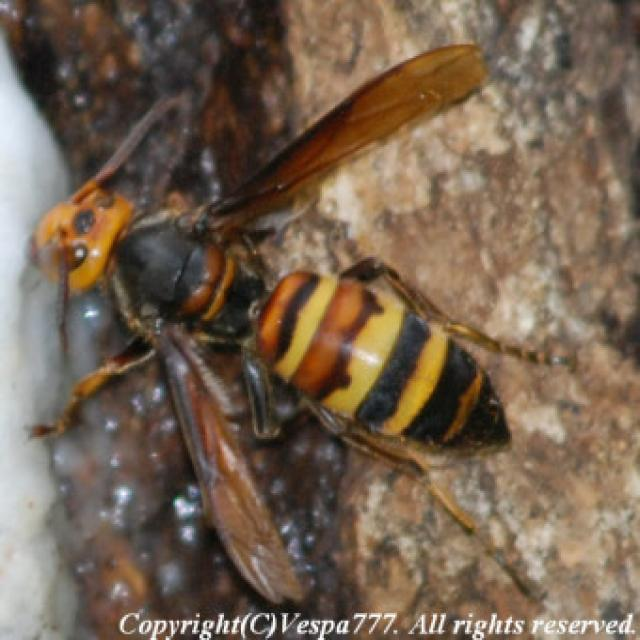Wasp: (37, 38, 570, 602)
